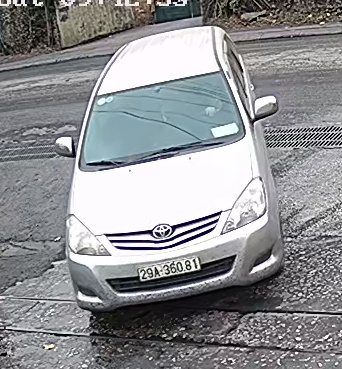vehicle plate: (137, 255, 205, 288)
